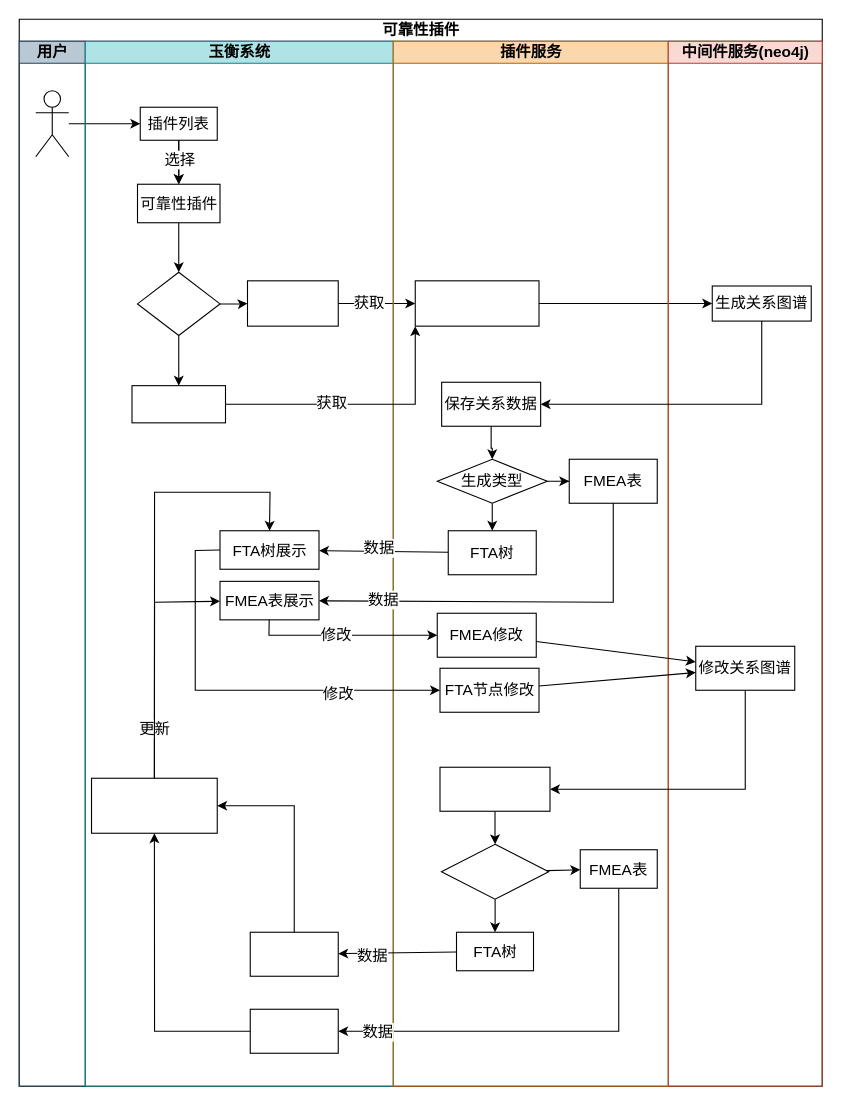
This 842x1106 diagram has some shape labels left out. The shapes that lost their labels are listed below. From the top down, each one's centre as x and y in pixels, then its label:
At pixel 52 123: "Actor".
At pixel 178 303: "功能选择".
At pixel 292 303: "FMEA生成".
At pixel 476 303: "模型数据".
At pixel 178 404: "FTA生成".
At pixel 153 805: "更新GUI".
At pixel 494 788: "更新关系数据".
At pixel 494 871: "更新类型".
At pixel 293 953: "FTA更新".
At pixel 293 1030: "FMEA更新".
